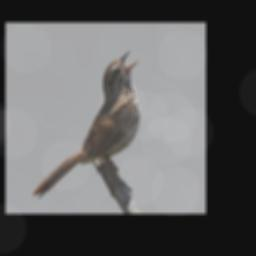Sparrow: (31, 49, 140, 201)
